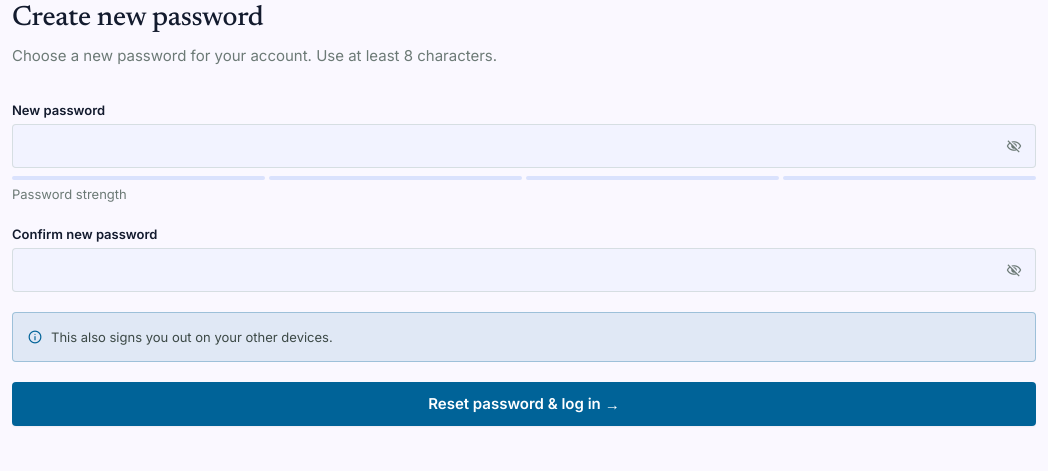
ResetPasswordForm: the form › rejects mismatching passwords on the confirm field
The width and height of the screenshot is (1048, 471).
In the password field labelled "New password": (524, 146) [12,124,1036,168], type "a-brand-new-passphrase-77"
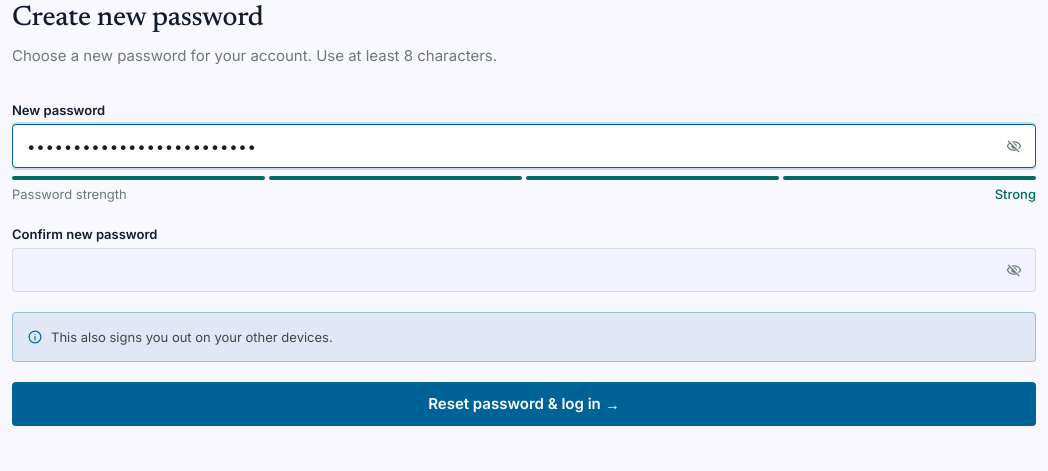
In the password field labelled "Confirm new password": (524, 270) [12,248,1036,292], type "something-else-entirely"
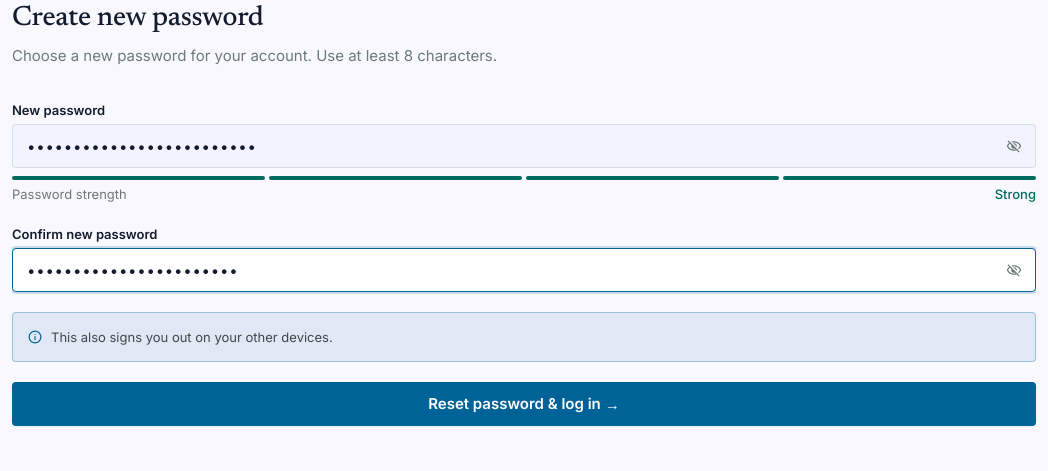
Click the button "Reset password & log in →": (524, 404) [12,382,1036,426]
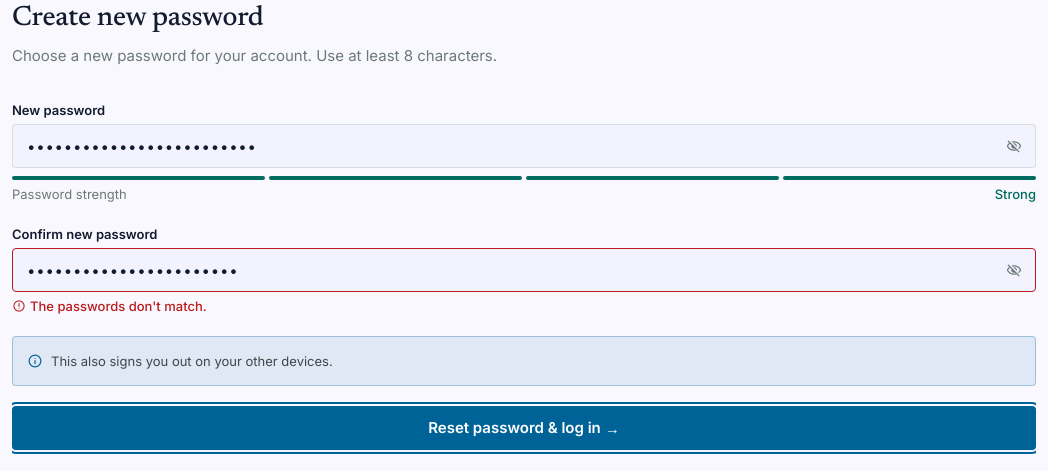
Expected: the text "The passwords don't match." is shown, [12,298,207,314]
